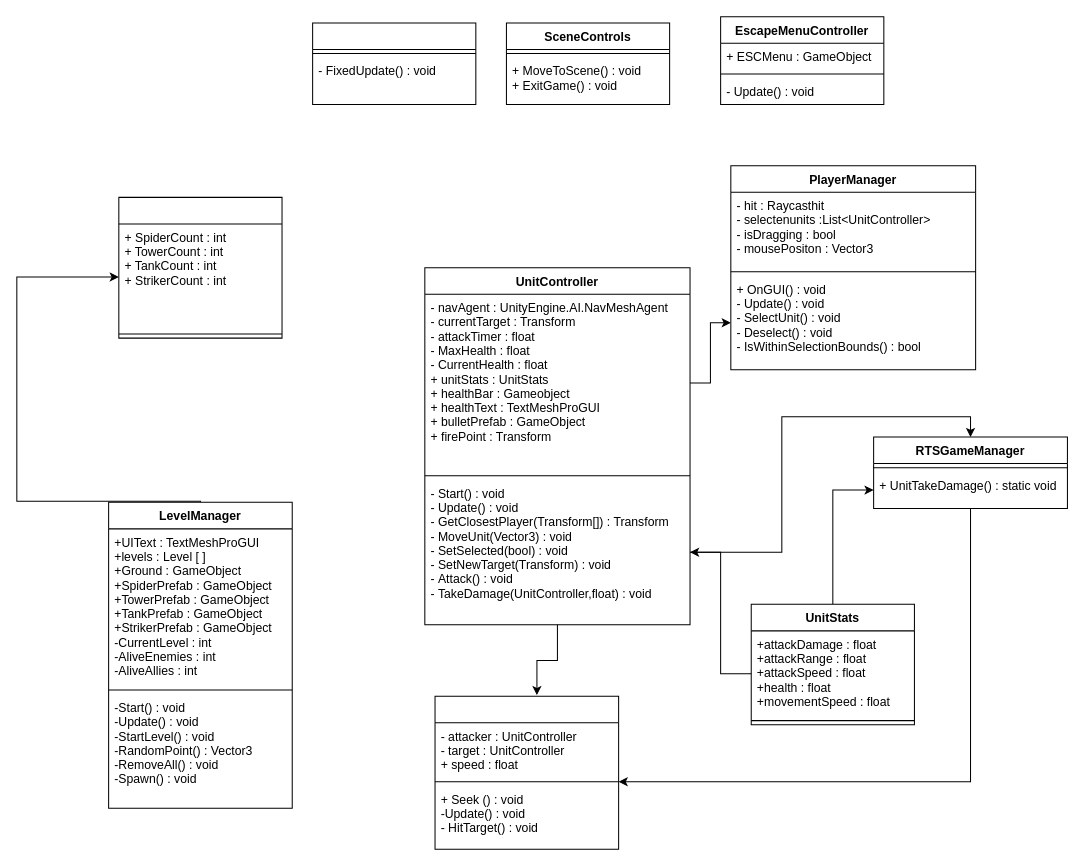
This 1084x866 diagram has some shape labels left out. The shapes that lost their labels are listed below. From the top down, each one's box as (x1, y1, x2, y2) in pixels, then its label:
(312, 22, 476, 105): CameraController
(118, 196, 282, 338): Level
(434, 695, 619, 849): Bullet
